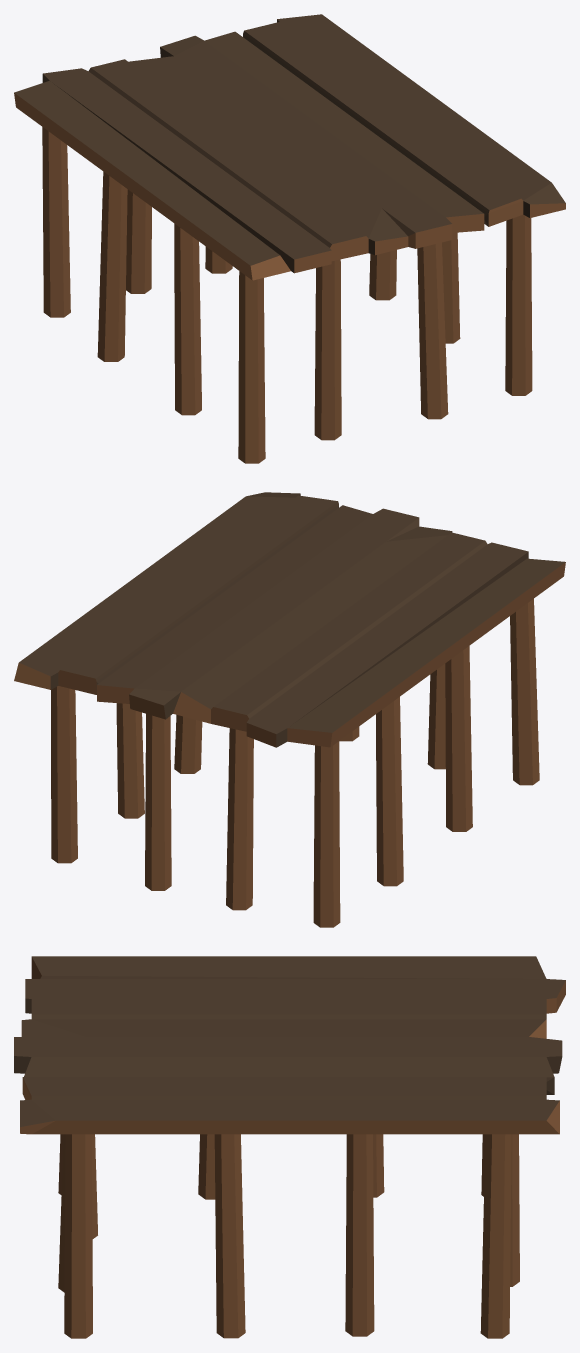
File: pirate-platform-big.fbx
The picture shows the model from 3 angles, top to bottom: view 1: azimuth 30°, elevation 25°; view 2: azimuth 150°, elevation 25°; view 3: azimuth 270°, elevation 25°; orthographic projection. The views are drawn at different scales.
Parts seen in each view (by area): view 1: pirate-platform-big; view 2: pirate-platform-big; view 3: pirate-platform-big.
Boxes of the visible parts, box(x1,y1,x2,y2) form: pirate-platform-big: box(14, 14, 565, 463); pirate-platform-big: box(14, 492, 565, 927); pirate-platform-big: box(14, 956, 565, 1338).
Bounding box in the file's own units: 4.13 × 2.69 × 5.91.
